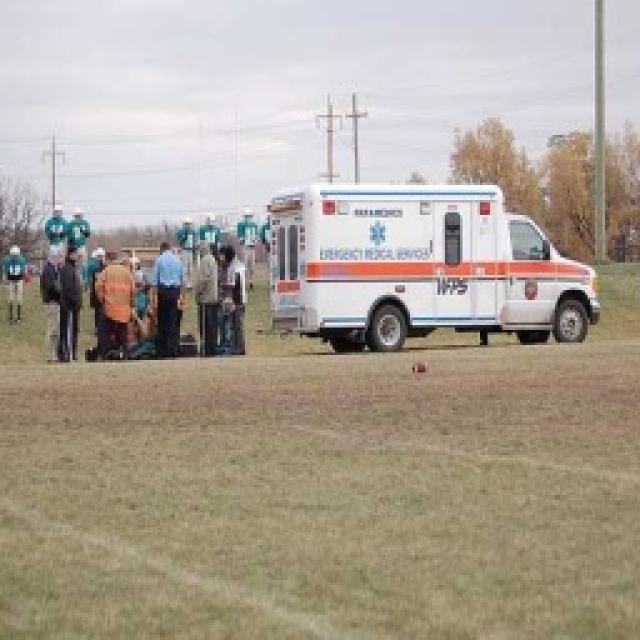emergency-vehicle: (284, 172, 606, 361)
